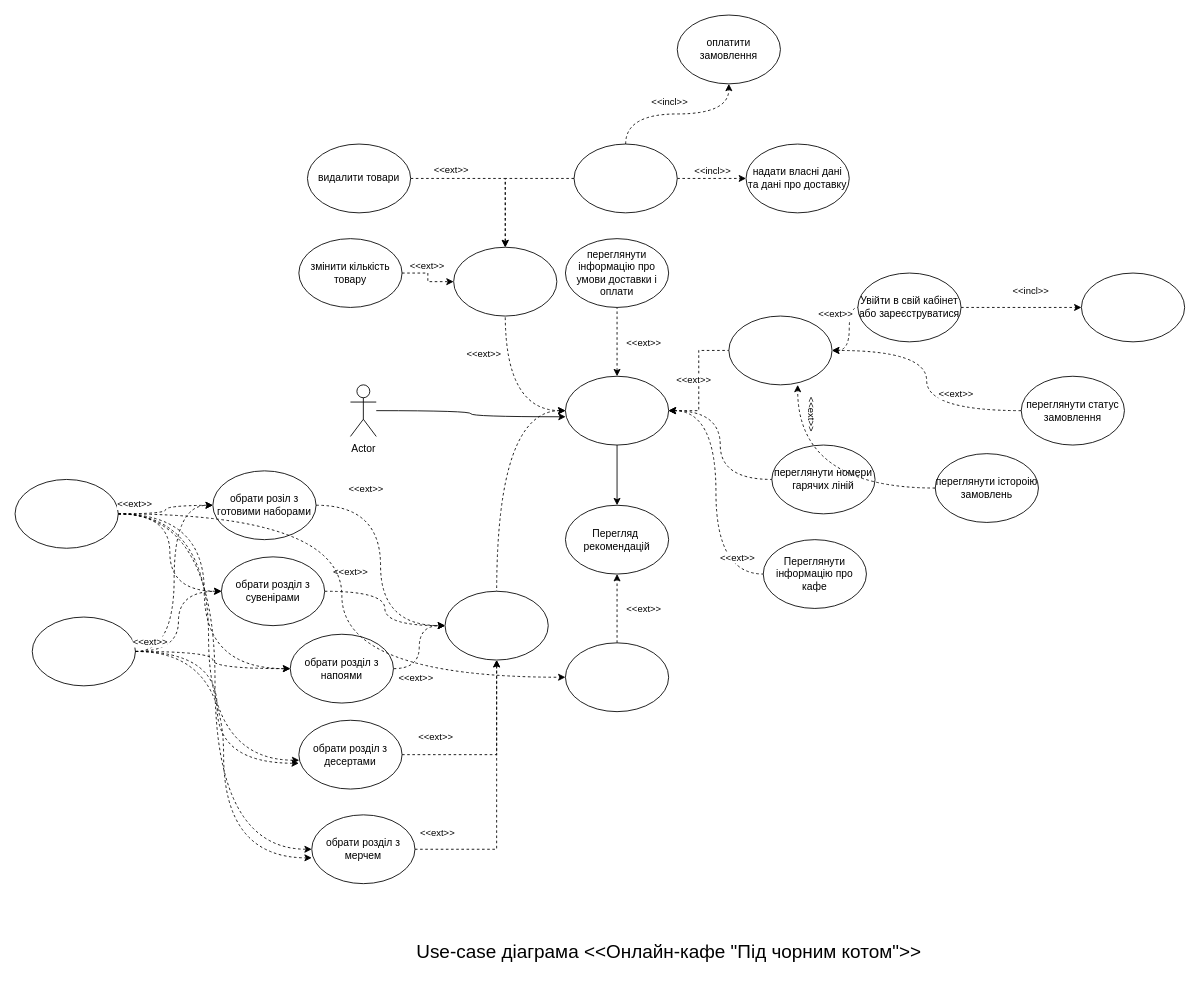
The diagram is 1200 pixels wide and 985 high, and some of its shapes have lost their labels. Each missing label, with the centre of its shape:
"ввести особові дані" goes at point 1133,307.
"Вибір вподобаної рекомендації" goes at point 617,677.
"Власний кабінет" goes at point 780,350.
"відфільтрувати по ціні" goes at point 83,651.
"Головна сторінка кафе" goes at point 617,410.
"додати до кошика" goes at point 66,513.
"оформити замовлення" goes at point 625,178.
"переглянути кошик" goes at point 505,281.
"переглянутии меню" goes at point 496,625.
